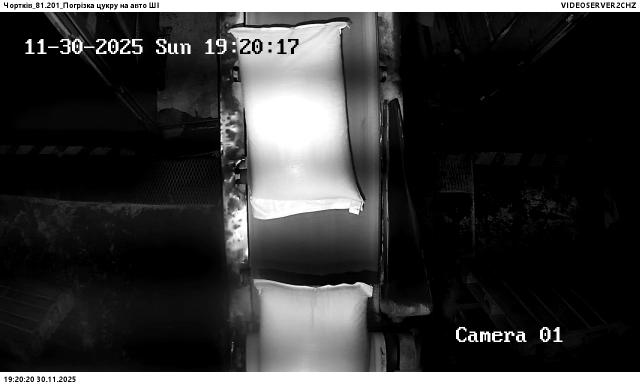bag: (230, 21, 364, 218), (254, 279, 373, 371)
